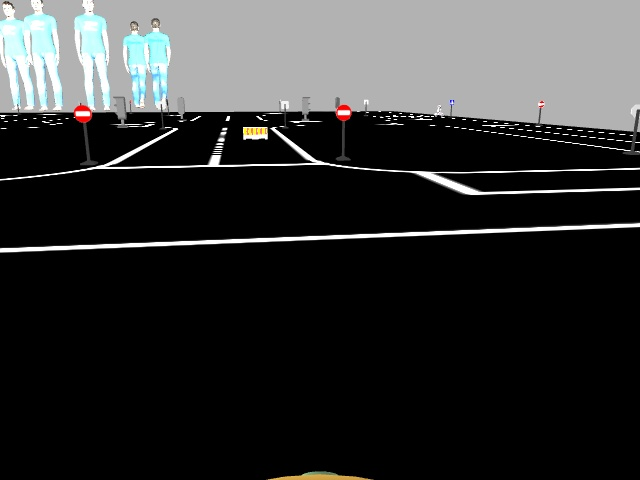ClosedRoadStand: (244, 127, 266, 139)
NoEntry: (73, 103, 89, 122), (335, 105, 351, 120)
